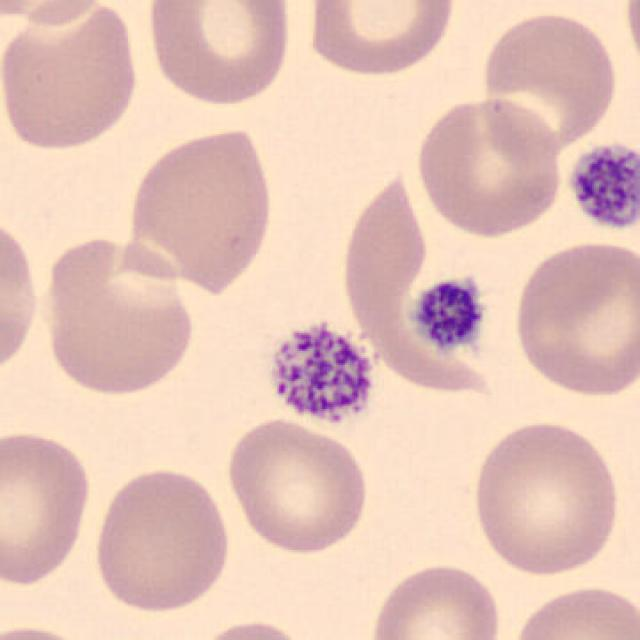Platelets: (261, 316, 379, 434), (563, 135, 640, 234), (407, 273, 491, 356)
RBC: (37, 231, 199, 400), (123, 122, 279, 294), (468, 416, 624, 578), (411, 93, 567, 240), (0, 0, 146, 155), (89, 462, 235, 615), (477, 6, 622, 160), (220, 414, 374, 557), (508, 234, 638, 402), (336, 166, 432, 377), (142, 0, 295, 109), (0, 425, 94, 589), (302, 0, 460, 79), (364, 559, 506, 640), (507, 580, 638, 640), (0, 209, 44, 382), (0, 0, 116, 30), (188, 615, 316, 640), (0, 620, 105, 640), (618, 0, 640, 86)
